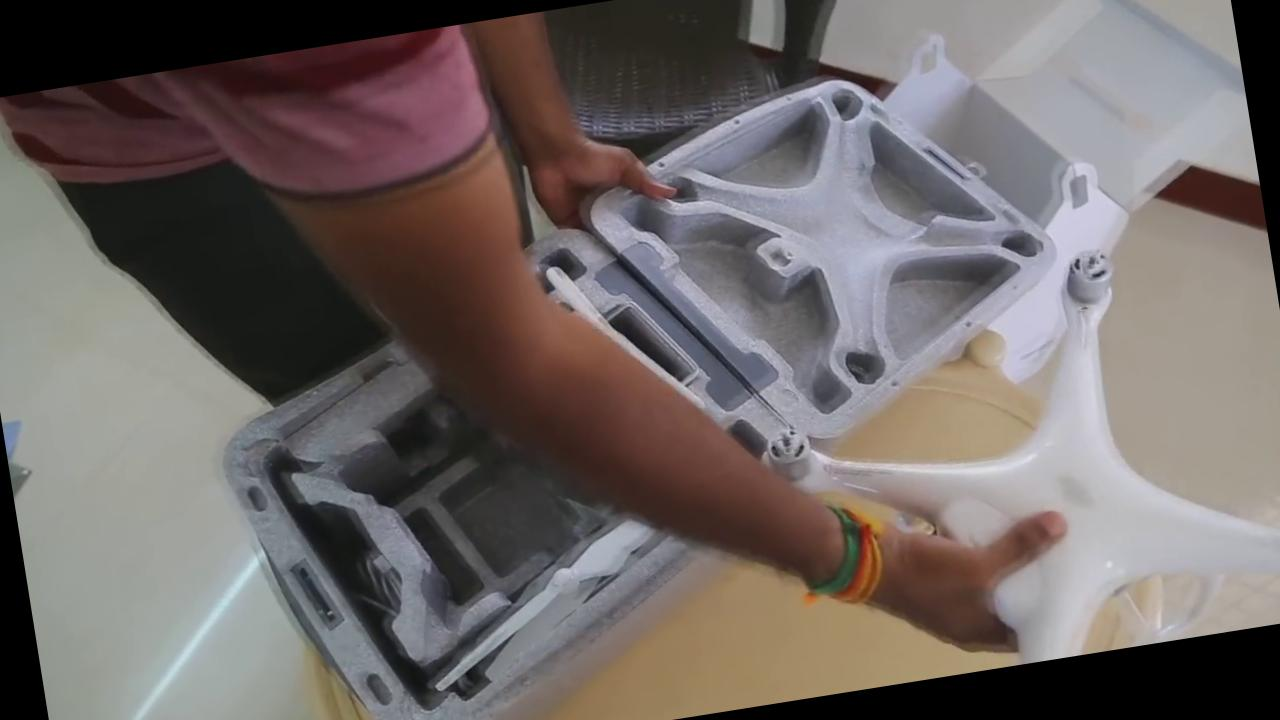drone: (705, 222, 1280, 702)
